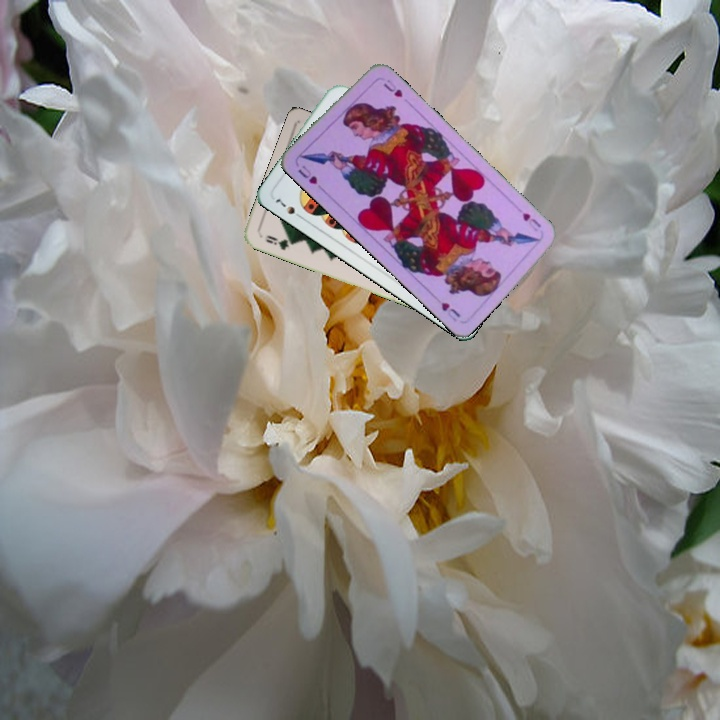G9: (261, 231, 298, 253)
HU: (294, 161, 320, 187), (518, 208, 544, 234)
S7: (271, 194, 306, 222)
